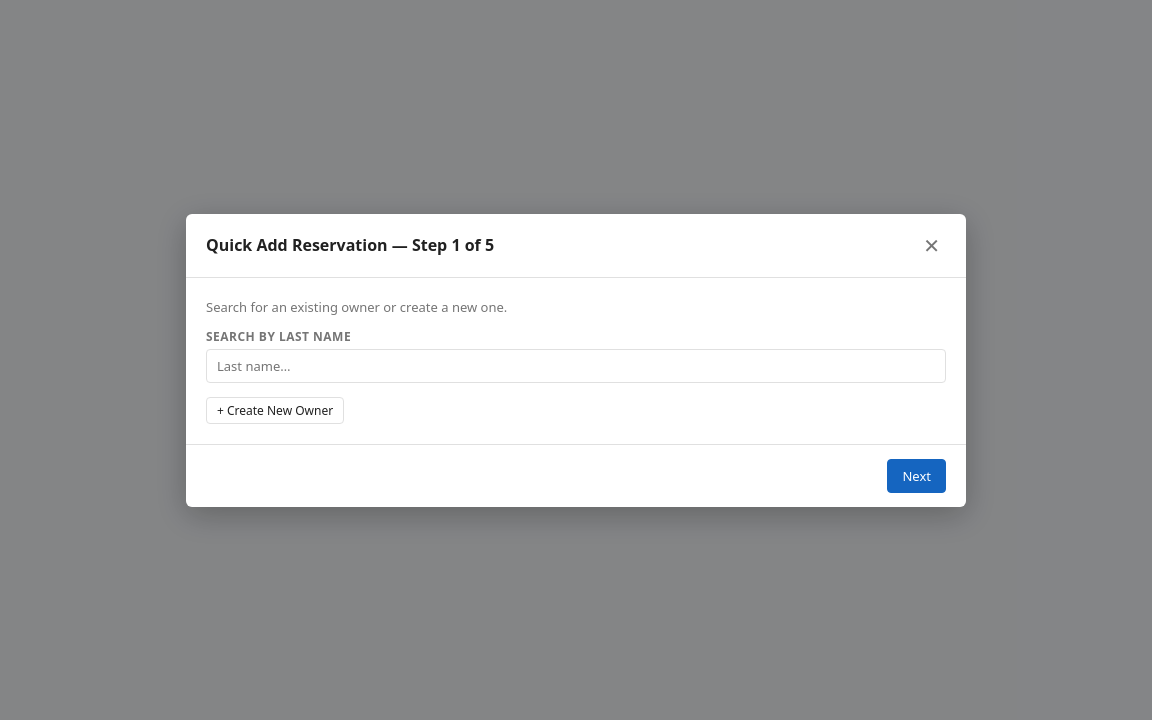
Test: QuickAddWizard — Step 3 (Dates) › shows drop-off date and time fields
Click the button "+ Create New Owner" at (275, 410), box [206, 396, 344, 424]
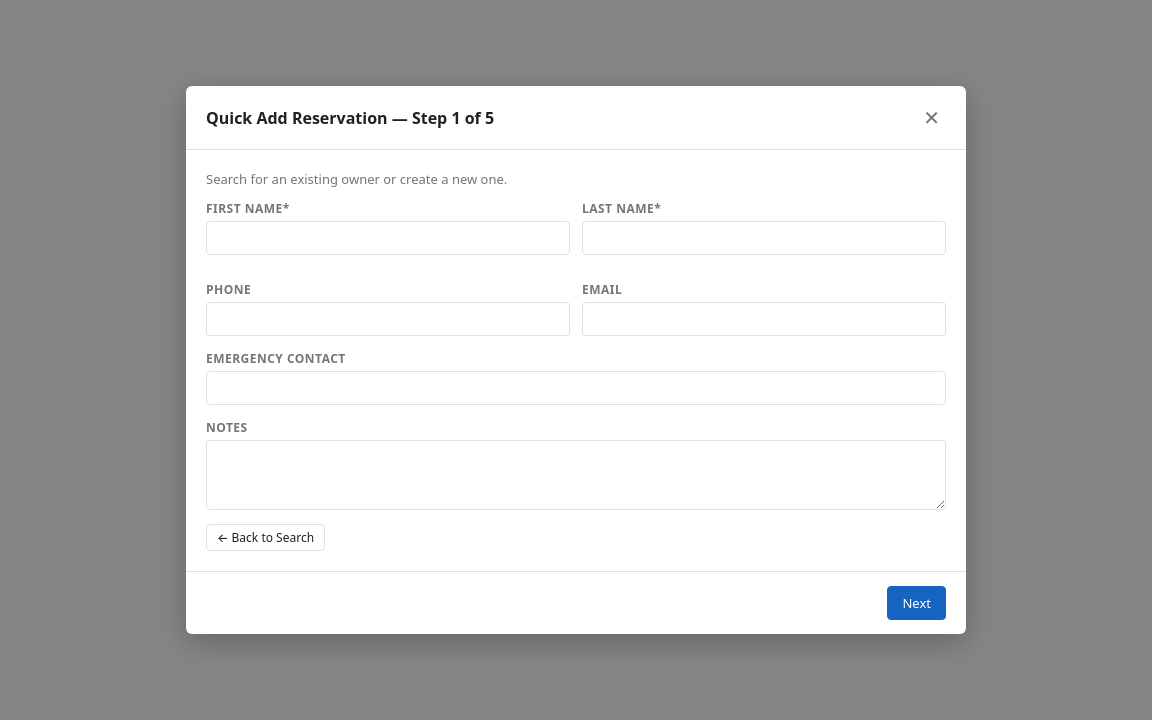
Type "Jane" into the field below "First Name*" at (388, 238), box [206, 221, 570, 255]
Type "Doe" into the field below "Last Name*" at (764, 238), box [582, 221, 946, 255]
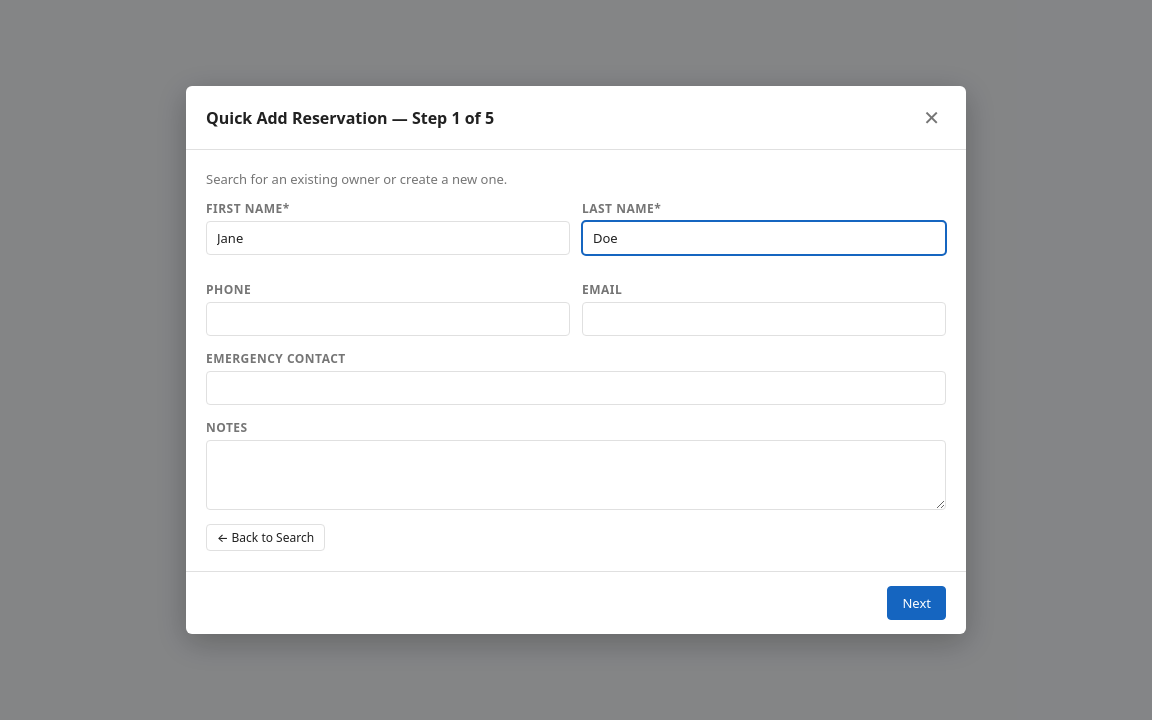
Click the button "Next" at (917, 603), box [888, 586, 946, 620]
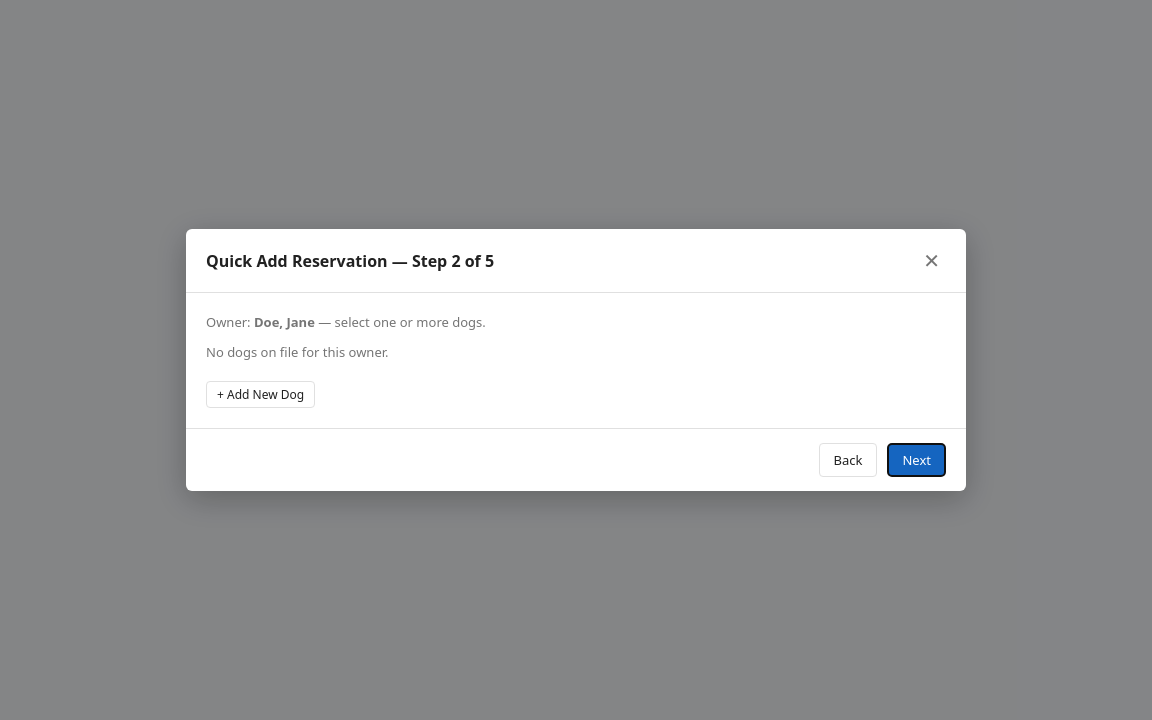
Now the heading "Quick Add Reservation — Step 2 of 5" is shown, box [206, 250, 494, 272]
Click the button "+ Add New Dog" at (261, 394), box [206, 381, 315, 408]
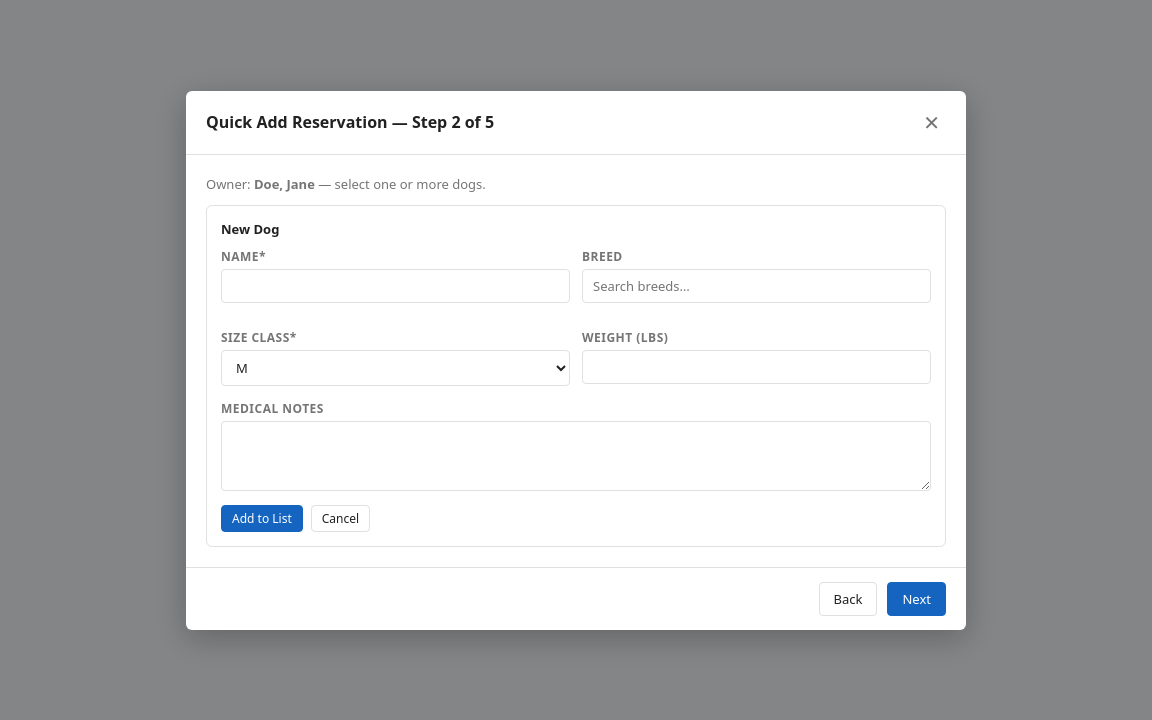
Type "Rex" into the 1st field at (396, 286), box [221, 268, 570, 302]
Click the button "Add to List" at (262, 518), box [221, 504, 303, 532]
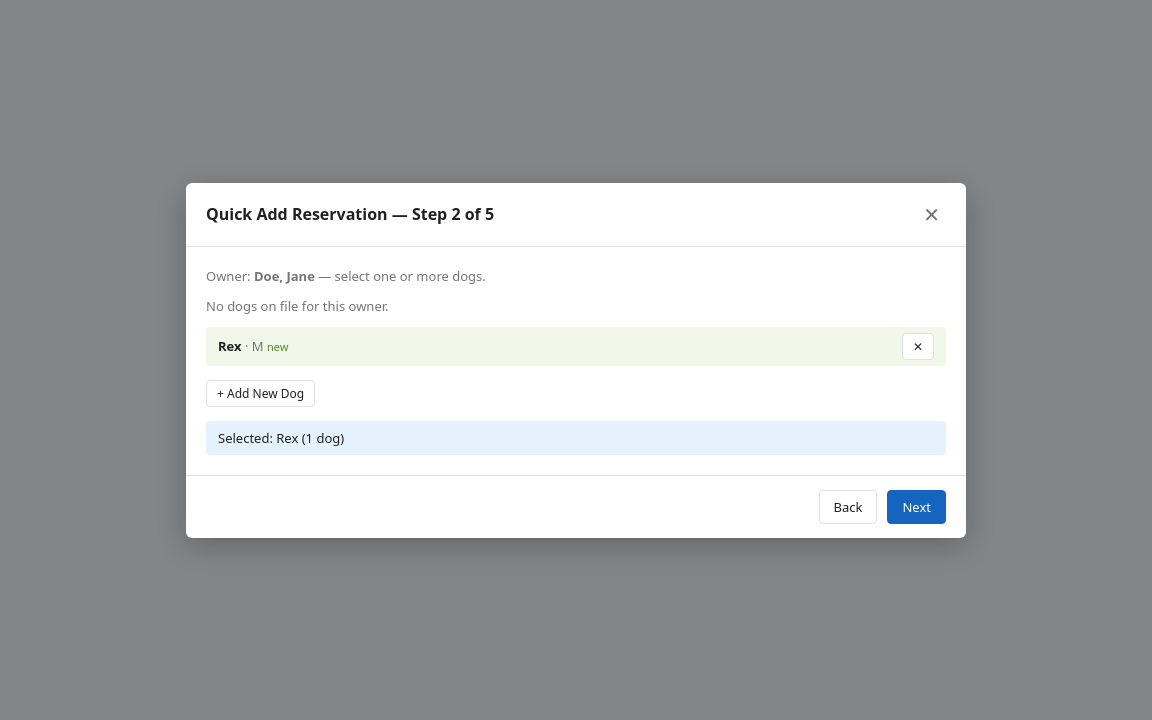
Click the button "Next" at (917, 506), box [888, 490, 946, 524]
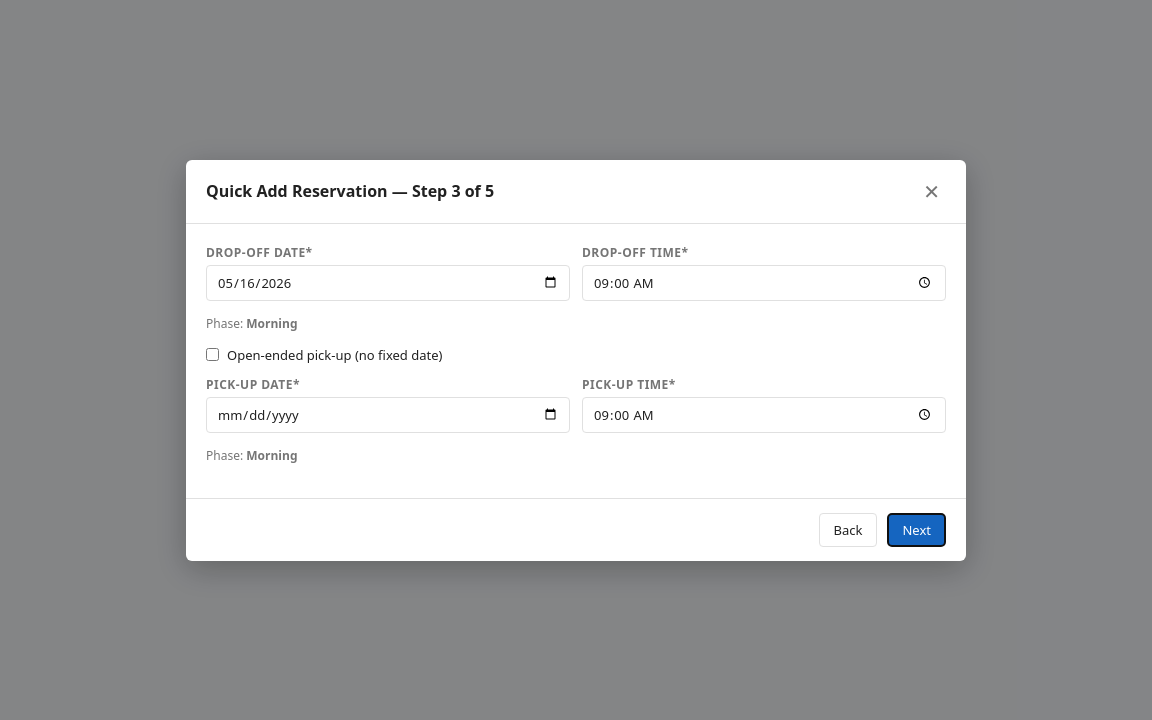
Now the heading "Quick Add Reservation — Step 3 of 5" is shown, box [206, 180, 494, 202]
Now the text "Drop-off Date*" is shown, box [206, 244, 313, 260]
Now the text "Drop-off Time*" is shown, box [582, 244, 688, 260]
